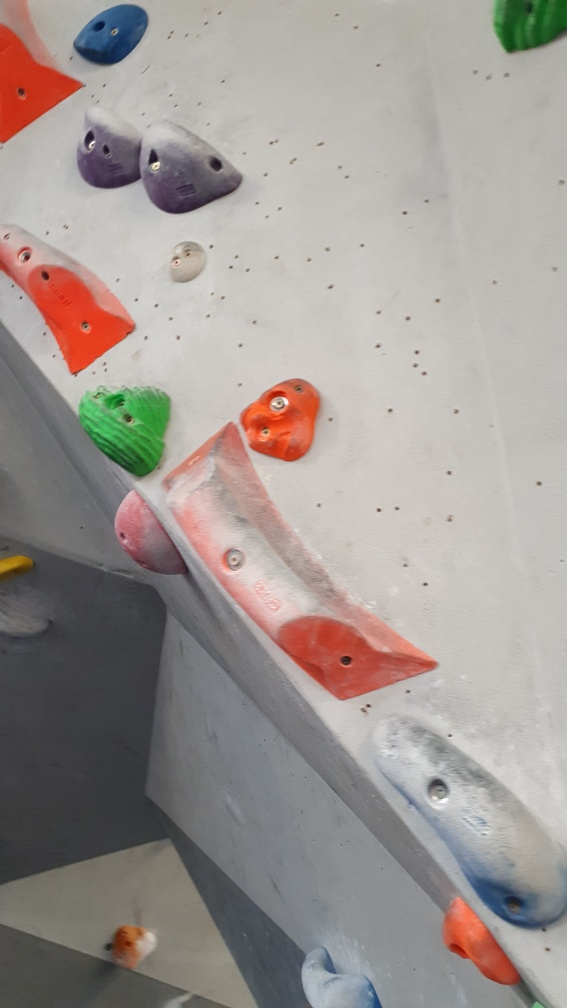Crimp: (74, 4, 150, 69)
Jug: (141, 119, 246, 219), (77, 380, 174, 479), (73, 104, 147, 194), (290, 941, 385, 1006)
Pinch: (165, 426, 442, 700), (370, 711, 567, 929), (1, 223, 140, 373), (1, 2, 81, 145)
Sloper: (113, 489, 194, 582)
